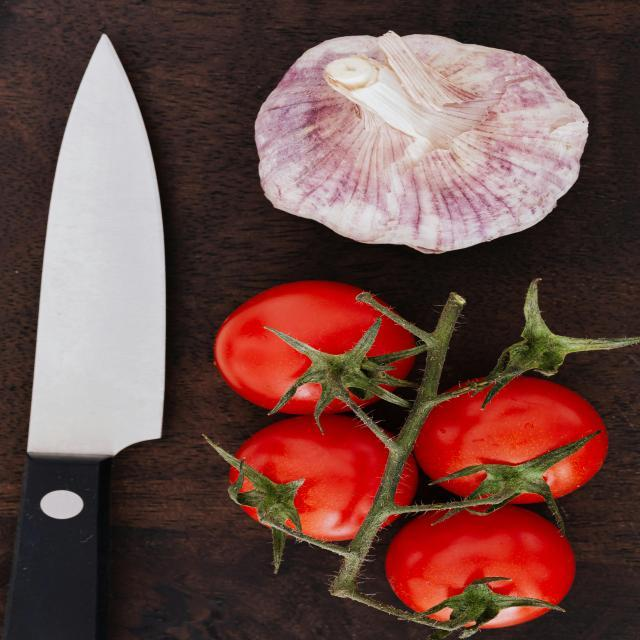knife: (12, 32, 165, 639)
